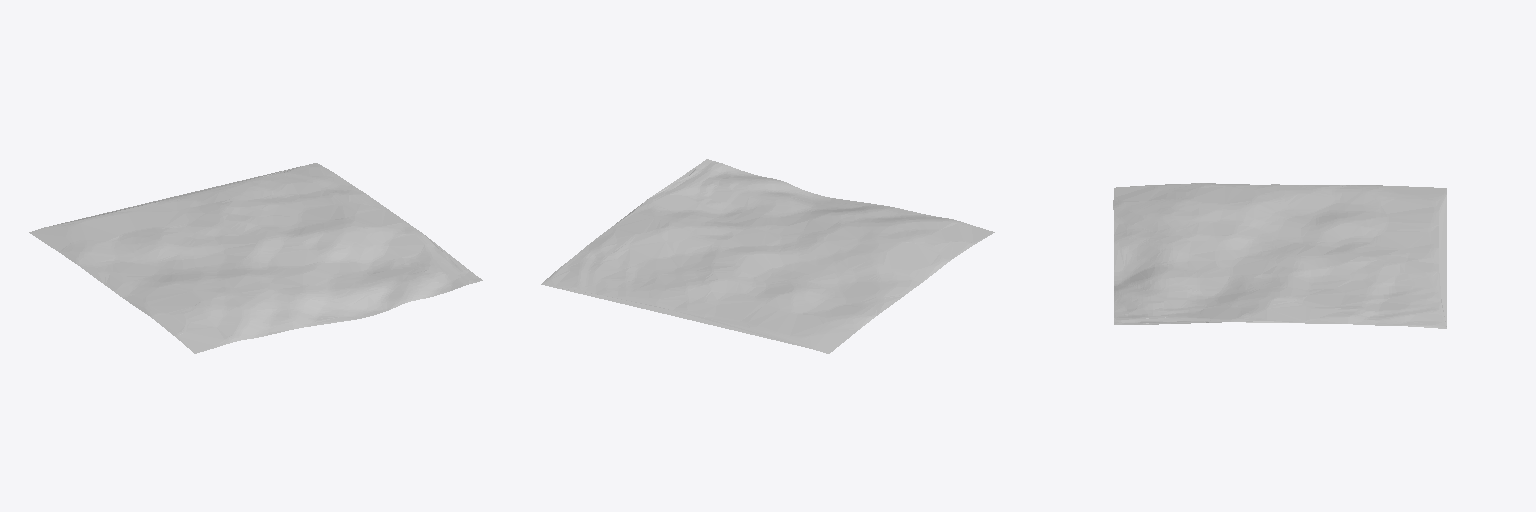
File: ForestLand2.obj
3 views of the same model, side by side, from view 1: azimuth 30°, elevation 25°; view 2: azimuth 150°, elevation 25°; view 3: azimuth 270°, elevation 25° (orthographic).
Visible parts, largest first — view 1: Plane; view 2: Plane; view 3: Plane.
Boxes of the visible parts, box(x1,y1,x2,y2) form: Plane: box(29, 163, 482, 353); Plane: box(541, 159, 994, 353); Plane: box(1113, 183, 1446, 328).
Bounding box in the file's own units: 16.01 × 0.7992 × 16.01.